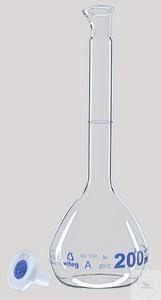Volumetric flask: (45, 8, 151, 290)
